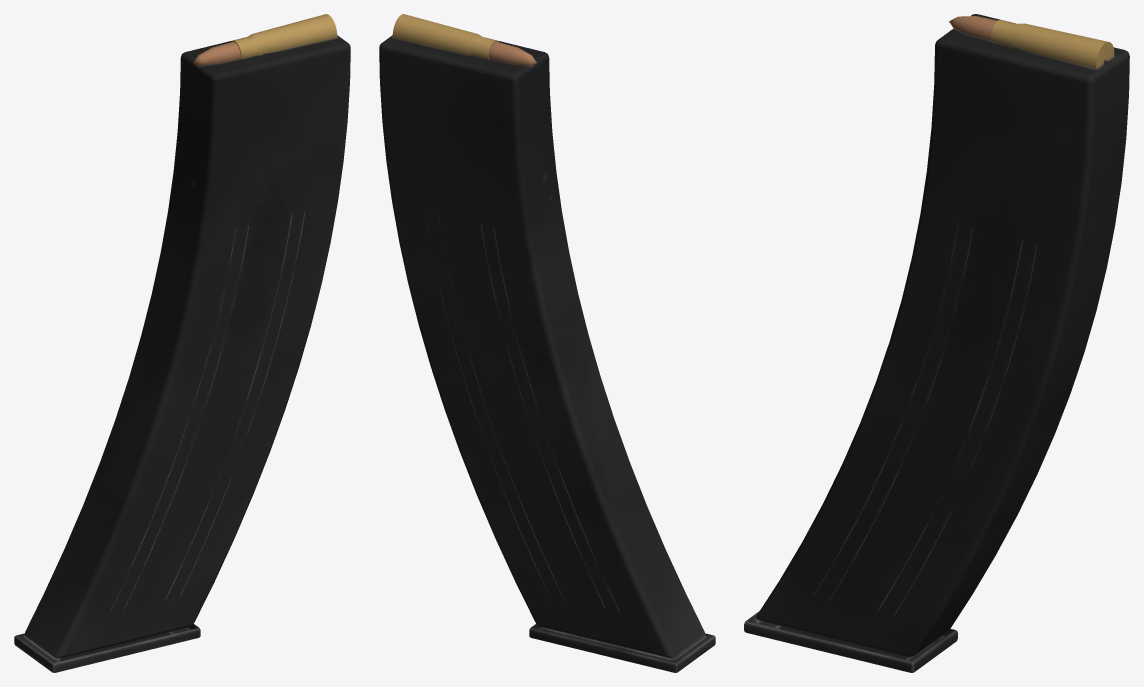
The model's file is afstg44_mag_lod1.fbx.
The picture shows the model from 3 angles, left to right: view 1: azimuth 30°, elevation 25°; view 2: azimuth 150°, elevation 25°; view 3: azimuth 330°, elevation 25°; orthographic projection. The views are drawn at different scales.
Parts seen in each view (by area): view 1: STGM_LOD_1; view 2: STGM_LOD_1; view 3: STGM_LOD_1.
Boxes of the visible parts, bbox=[...] form: STGM_LOD_1: bbox=[14, 14, 350, 672]; STGM_LOD_1: bbox=[379, 14, 715, 672]; STGM_LOD_1: bbox=[744, 14, 1129, 672].
Size of the model in its own units: 12.4 by 2.85 by 22.68.
